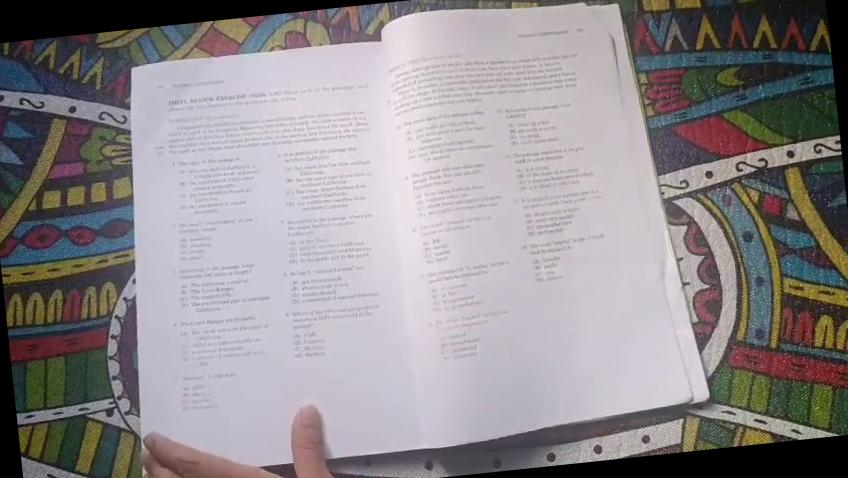Kertas: (374, 7, 658, 450), (130, 40, 409, 412)
